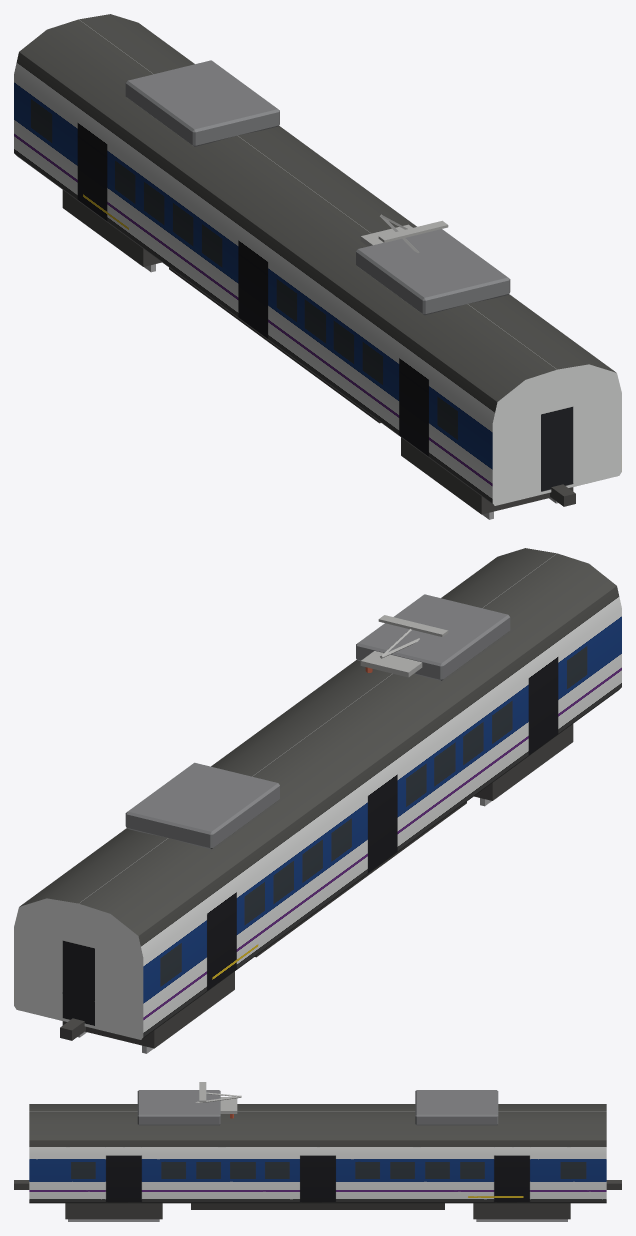
Rendered from emu_ac_motor_lod1.glb.
3 renders of one model, top to bottom at view 1: azimuth 30°, elevation 25°; view 2: azimuth 150°, elevation 25°; view 3: azimuth 270°, elevation 25°, orthographic. The views are drawn at different scales.
Visible parts, largest first — view 1: body, pantograph; view 2: body, pantograph; view 3: body, pantograph.
Part boxes in pixels (x1,y1,x2,y2): body: (14,14,621,519); pantograph: (360,214,448,253); body: (14,548,621,1053); pantograph: (360,615,448,677); body: (14,1090,621,1221); pantograph: (195,1082,241,1118).
Bounding box in the file's own units: 3.25 × 4.77 × 21.9.
Materials: 2 (2 with a texture image).
